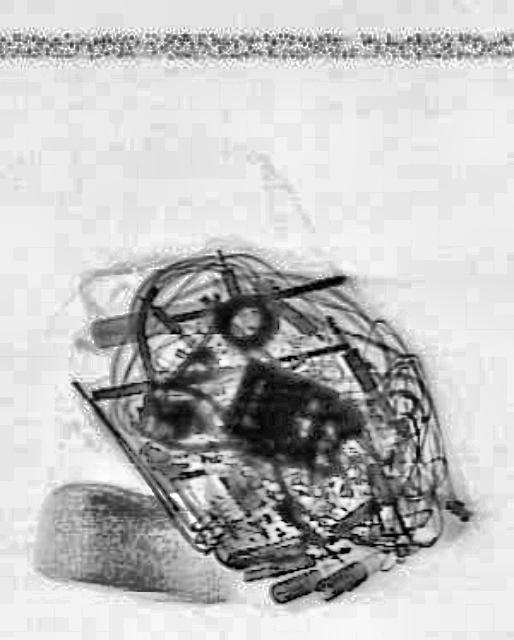Pliers: (101, 264, 225, 441), (134, 372, 252, 468)
